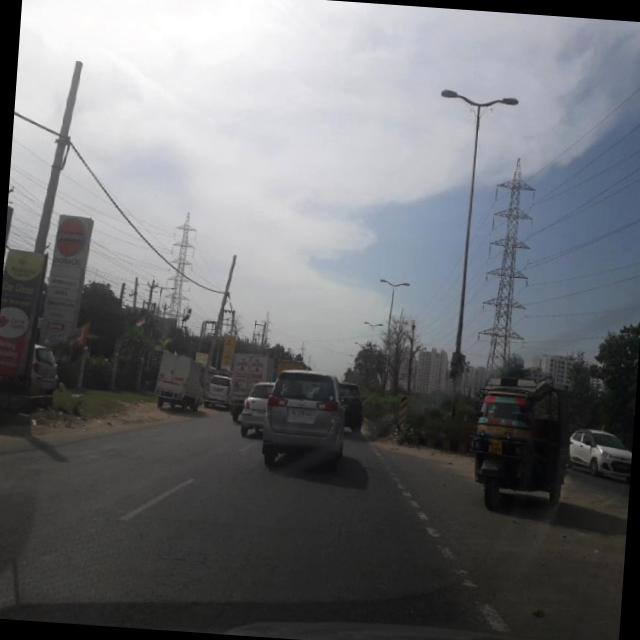crack: (4, 438, 484, 640)
